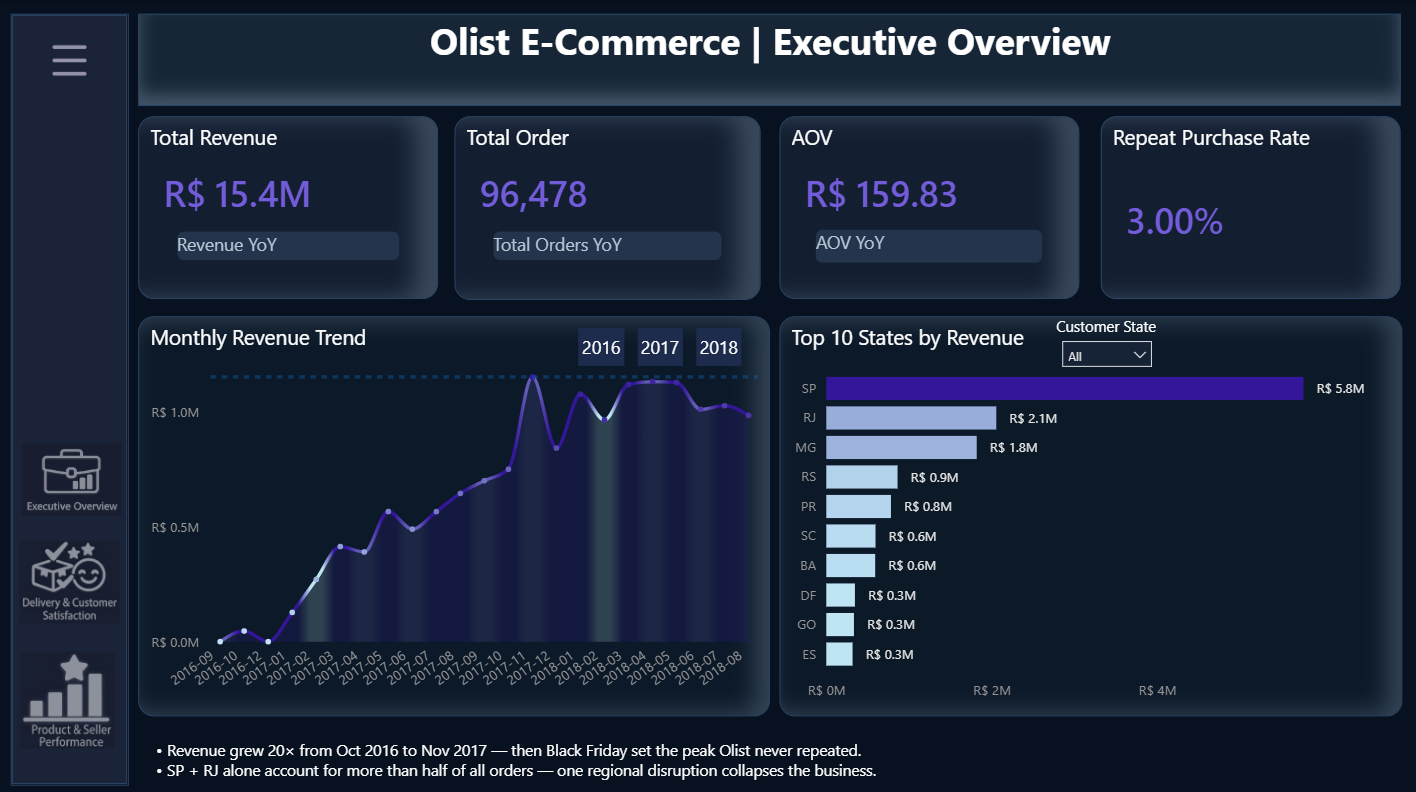

The page's visual inventory and layout, read from the dashboard file:
{"tool":"powerbi","page":{"name":"Executive Overview","canvas":[1280,720],"ordinal":0},"visuals":[{"type":"cardVisual","title":"Total Order","fields":{"Data":["Fact_Order_Items.Total_Orders"]},"box":[412.5,104.8,276.1,165.7],"z":0},{"type":"cardVisual","title":"AOV","fields":{"Data":["Fact_Order_Items.AOV"]},"box":[705.6,105.2,270,165],"z":1000},{"type":"cardVisual","title":"Repeat Purchase Rate","fields":{"Data":["Dim_Customers.Repeat Purchase Rate"]},"box":[995.4,105.2,270,165],"z":2000},{"type":"lineChart","title":"Monthly Revenue Trend","fields":{"Category":["Dim_Date.YearMonth"],"Y":["Fact_Order_Items.Total_Revenue"]},"box":[127.2,284.9,569.8,360.7],"z":3000},{"type":"advancedSlicerVisual","title":"Year","fields":{"Values":["Dim_Date.Year"]},"box":[498.9,284.9,198.1,50.1],"z":4000},{"type":"textbox","title":"Olist E-Commerce | Executive Overview","box":[127.2,12.2,1138.5,83.2],"z":5000},{"type":"cardVisual","title":"Total Revenue","fields":{"Data":["Fact_Order_Items.Total_Revenue"]},"box":[127.2,105.2,270,165],"z":6000},{"type":"shape","box":[12.2,12.2,106.4,695.8],"z":7000},{"type":"image","box":[28.1,29.3,74.6,50.1],"z":8000},{"type":"image","box":[22,398.6,89.3,67.3],"z":9000},{"type":"image","box":[20.8,481.8,90.5,86.8],"z":10000},{"type":"image","box":[19.6,587,89.3,88],"z":11000},{"type":"textbox","box":[127.2,661.6,676.2,46.5],"z":12000},{"type":"barChart","title":"Top 10 States by Revenue","fields":{"Category":["Dim_Customers.customer_state"],"Y":["Fact_Order_Items.Total_Revenue"]},"box":[705.3,285.4,561.2,360.9],"z":13000},{"type":"slicer","title":"Customer State","fields":{"Values":["Dim_Customers.customer_state"]},"box":[950.2,285.2,101.4,49.6],"z":14000}]}

Visuals, with their boxes on the page's 1280x720 design canvas (x1, y1, x2, y2). These are canvas units, not pixel positions in the 1416x792 screenshot, which may show the page scaled, cropped or inside an application window:
"Total Order" cardVisual: left=412, top=105, right=689, bottom=270
"AOV" cardVisual: left=706, top=105, right=976, bottom=270
"Repeat Purchase Rate" cardVisual: left=995, top=105, right=1265, bottom=270
"Monthly Revenue Trend" lineChart: left=127, top=285, right=697, bottom=646
"Year" advancedSlicerVisual: left=499, top=285, right=697, bottom=335
"Olist E-Commerce | Executive Overview" textbox: left=127, top=12, right=1266, bottom=95
"Total Revenue" cardVisual: left=127, top=105, right=397, bottom=270
shape: left=12, top=12, right=119, bottom=708
image: left=28, top=29, right=103, bottom=79
image: left=22, top=399, right=111, bottom=466
image: left=21, top=482, right=111, bottom=569
image: left=20, top=587, right=109, bottom=675
textbox: left=127, top=662, right=803, bottom=708
"Top 10 States by Revenue" barChart: left=705, top=285, right=1266, bottom=646
"Customer State" slicer: left=950, top=285, right=1052, bottom=335
